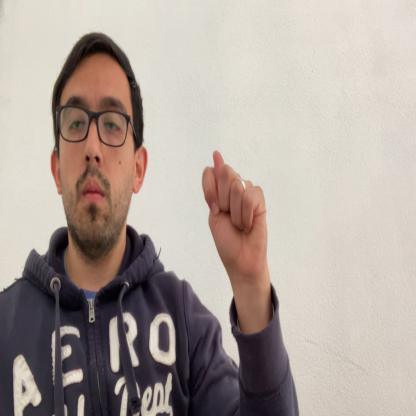T: (203, 148, 267, 278)
